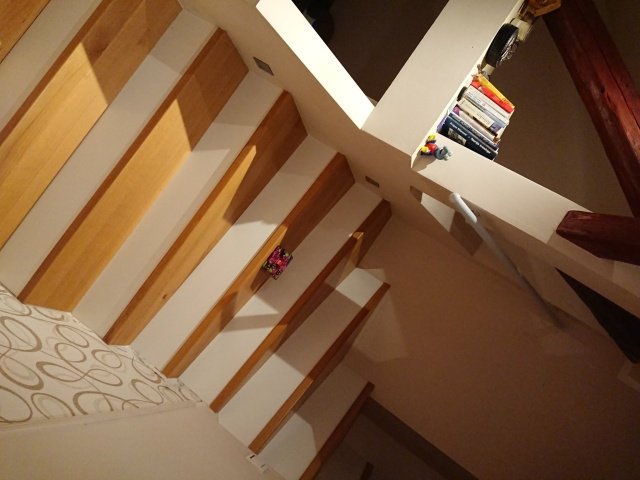Franck Black Currant Tea 60g: (259, 243, 295, 282)
